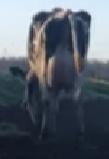cow: (9, 7, 92, 141)
